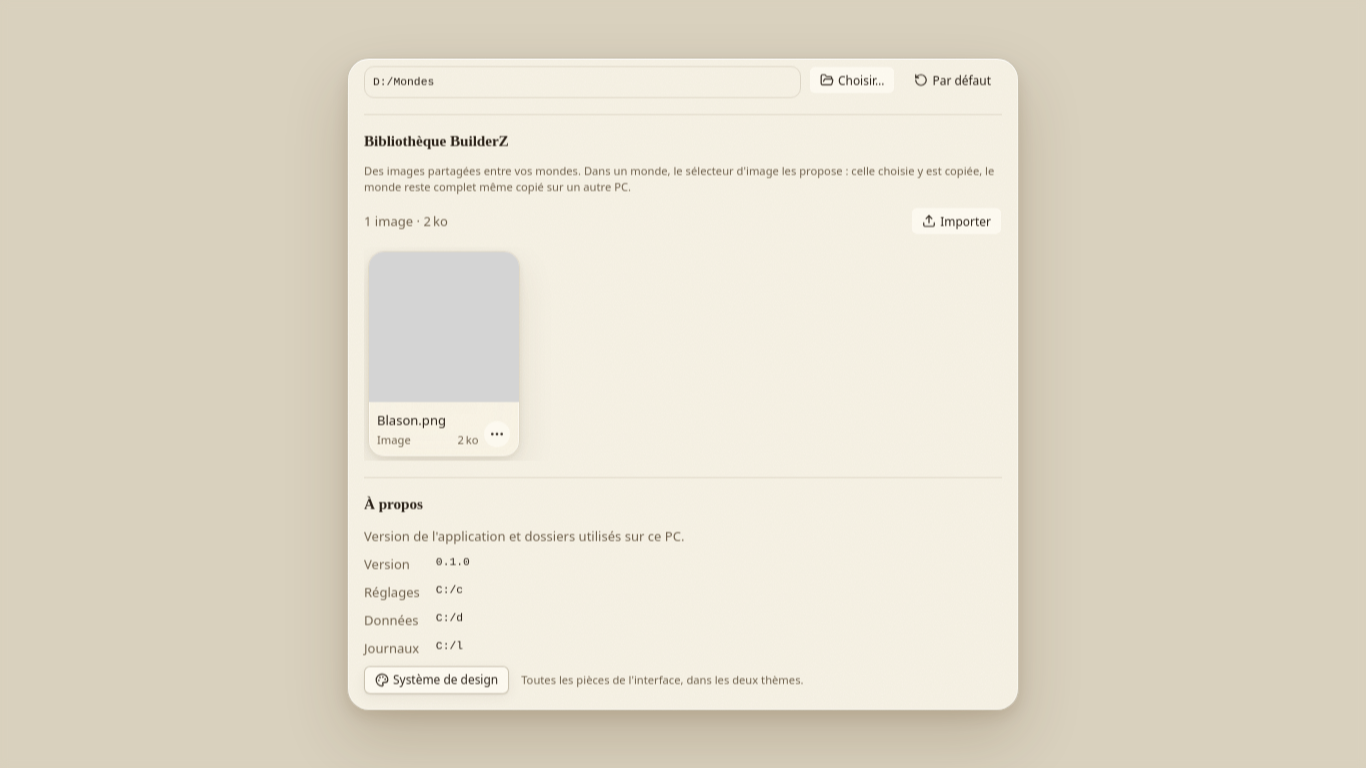
Test: the library shows its images and removes one after a confirmation
(page scrolled)
Expected: the text "1 image · 2 ko" is shown, left=364, top=211, right=448, bottom=231
Press Delete in the button named "Actions pour Blason.png", box left=482, top=419, right=510, bottom=447
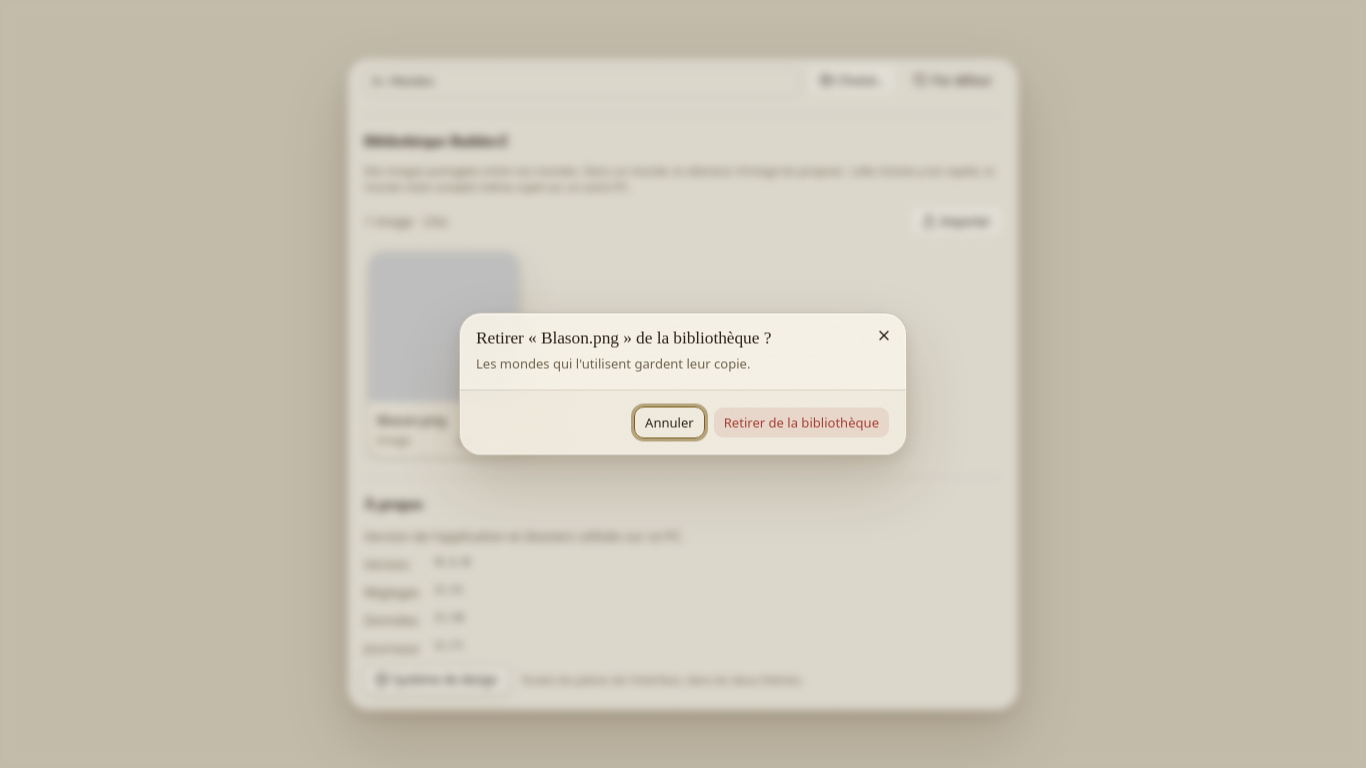
Expected: the text "Les mondes qui l'utilisent gardent leur copie." is shown, left=476, top=354, right=750, bottom=372
Click the button "Retirer de la bibliothèque".
click(801, 422)  # box left=713, top=406, right=890, bottom=438
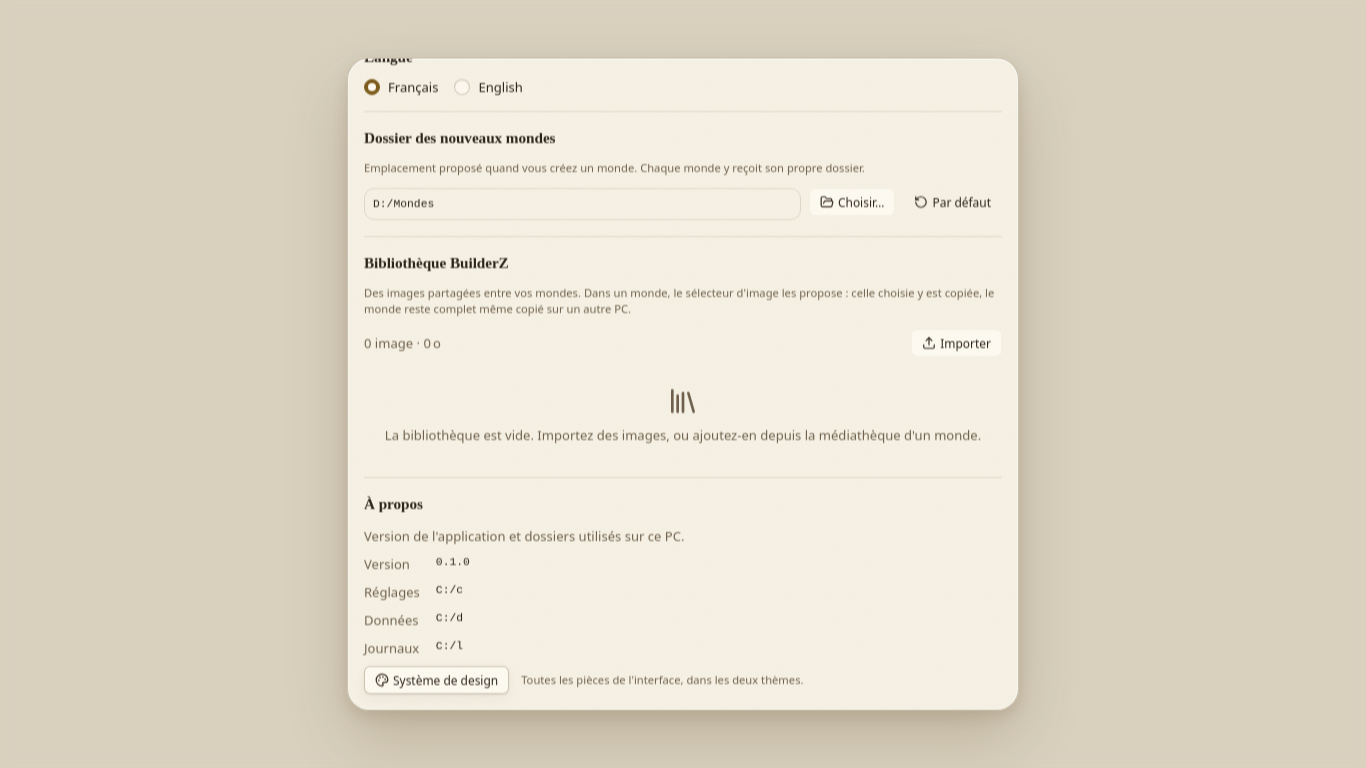
Expected: the text "La bibliothèque est vide" is shown, left=385, top=426, right=981, bottom=444
